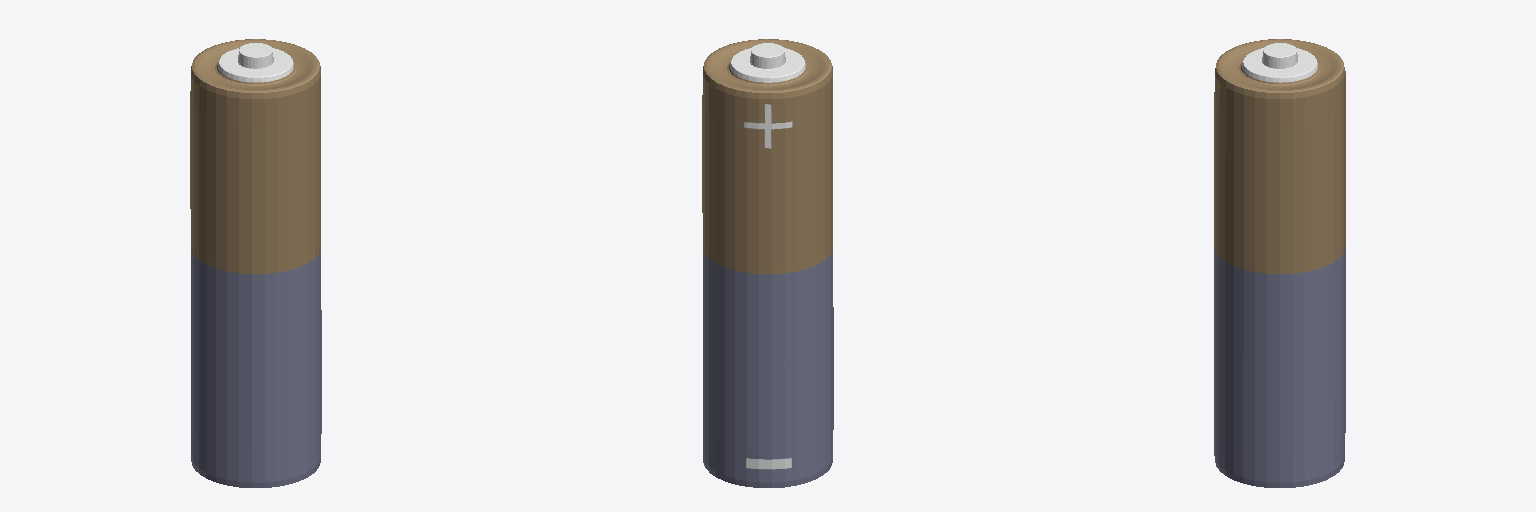
3 views of the same model, side by side, from view 1: azimuth 30°, elevation 25°; view 2: azimuth 150°, elevation 25°; view 3: azimuth 270°, elevation 25° (orthographic).
Parts seen in each view (by area): view 1: Battery; view 2: Battery; view 3: Battery.
Part boxes in pixels (bbox=[...]): Battery: bbox=[190, 39, 321, 487]; Battery: bbox=[702, 39, 833, 487]; Battery: bbox=[1214, 39, 1345, 487].
Bounding box in the file's own units: 1.95 × 6.75 × 1.95.
1 materials, 1 textured.